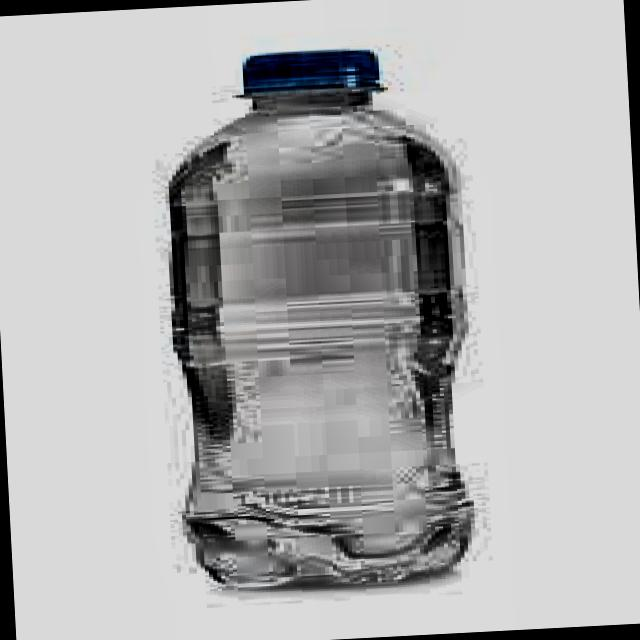plastic bottle: (170, 53, 469, 586)
